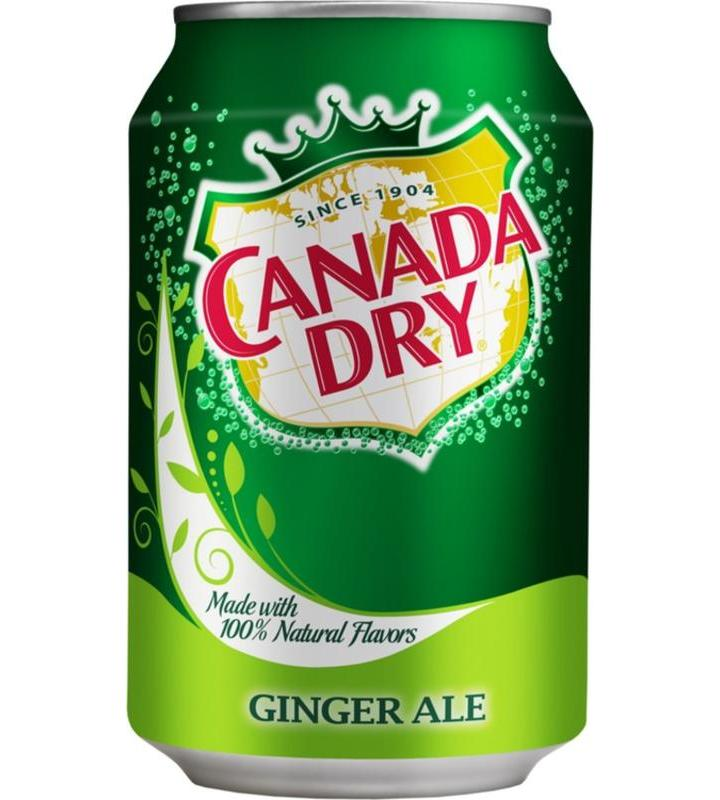Lata: (116, 1, 596, 795)
